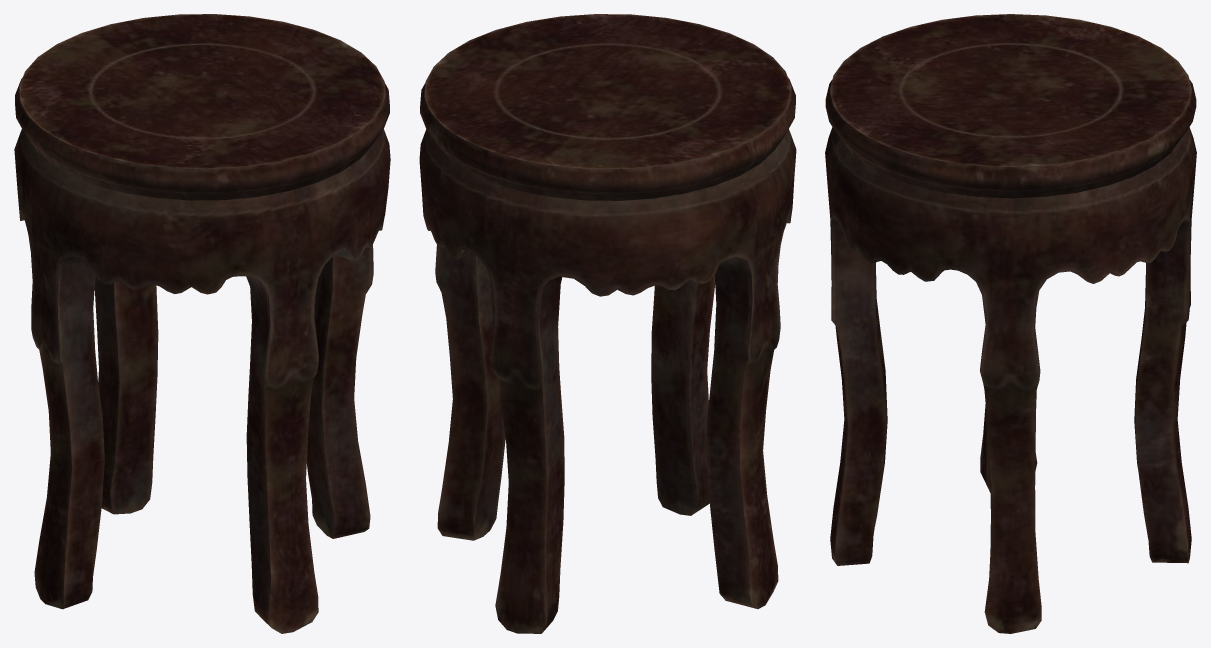
The model's file is WoodenTable_02.gltf.
3 views of the same model, side by side, from view 1: azimuth 30°, elevation 25°; view 2: azimuth 150°, elevation 25°; view 3: azimuth 270°, elevation 25° (orthographic).
Visible parts, largest first — view 1: WoodenTable_02; view 2: WoodenTable_02; view 3: WoodenTable_02.
Part boxes in pixels (<box>): WoodenTable_02: <box>14,14,390,633</box>; WoodenTable_02: <box>419,14,796,633</box>; WoodenTable_02: <box>825,14,1196,633</box>.
Bounding box in the file's own units: 0.3007 × 0.4177 × 0.3007.
1 material, 1 textured.
